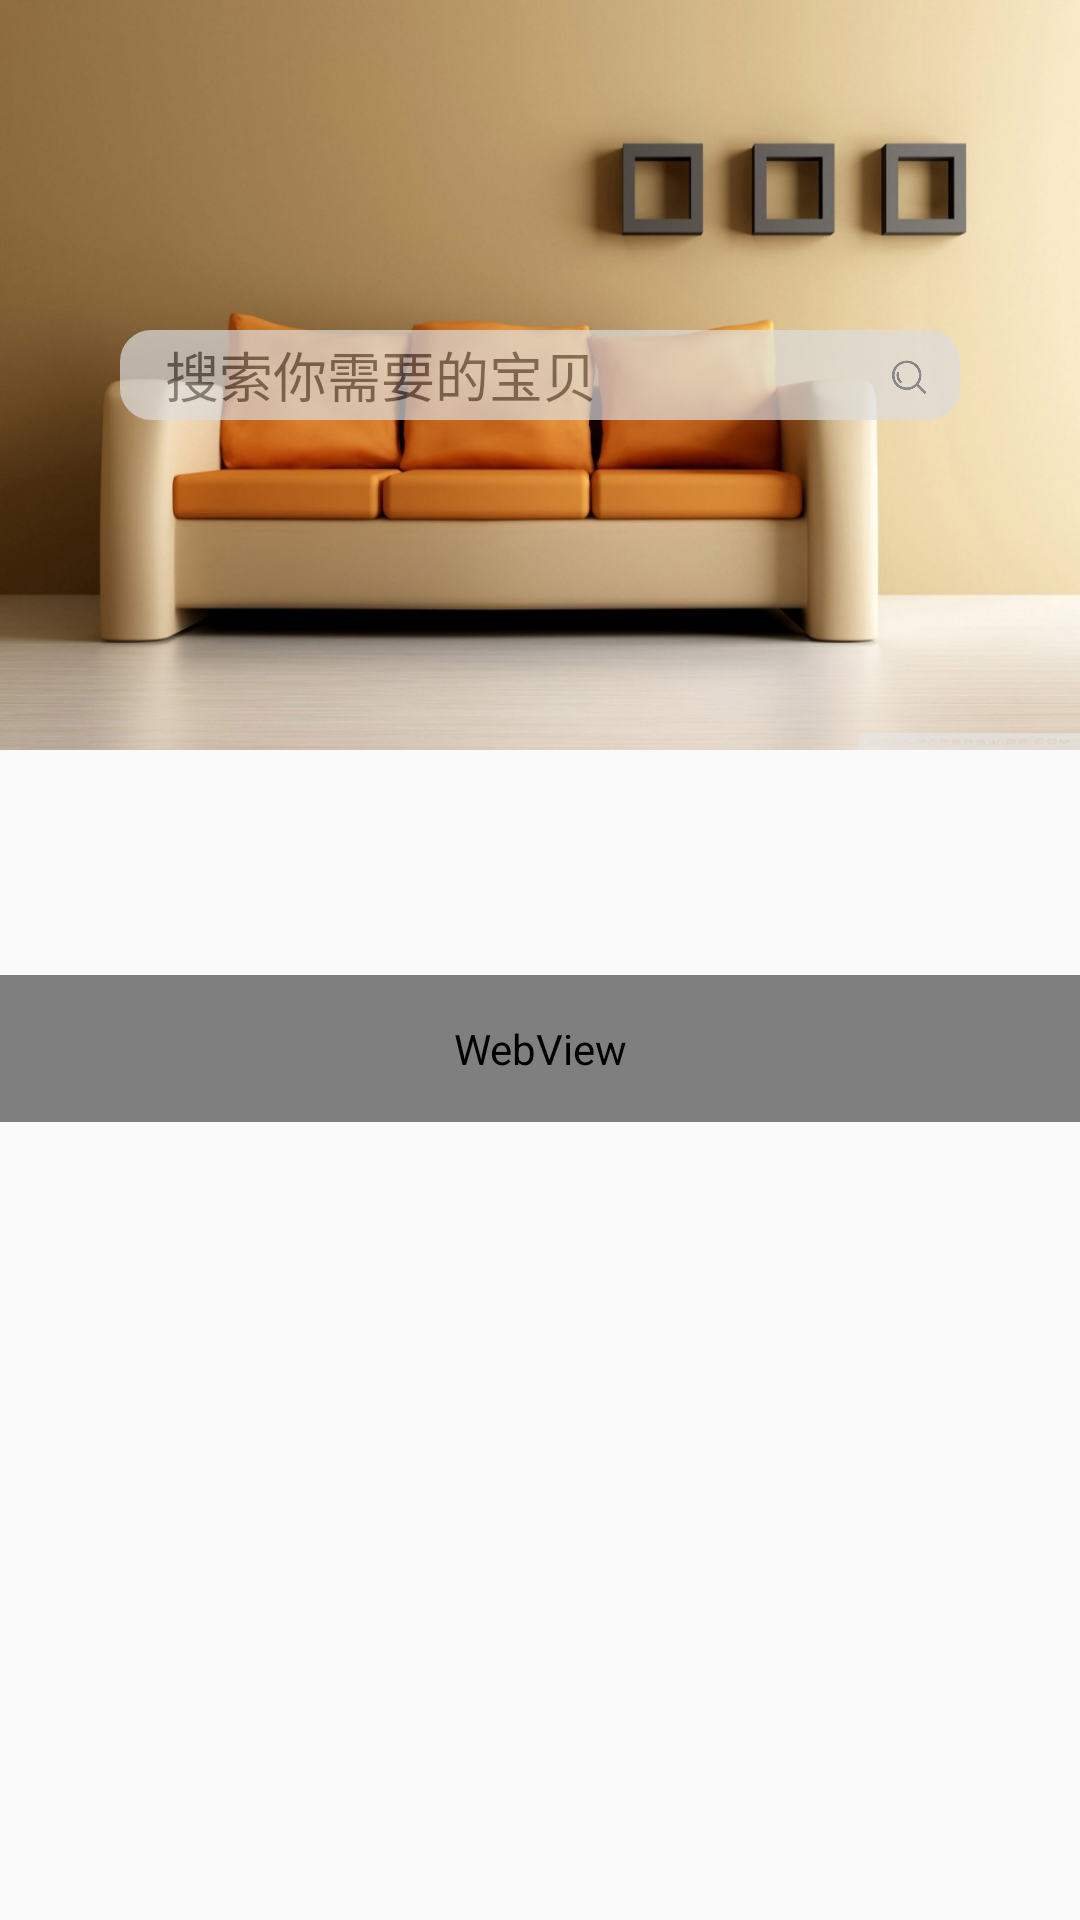

Named icons in this screenshot (1080w x 1920h) and their bounding boxes, (left=x1, top=y1, right=x2, bottom=y2):
search: (left=892, top=360, right=926, bottom=394)
